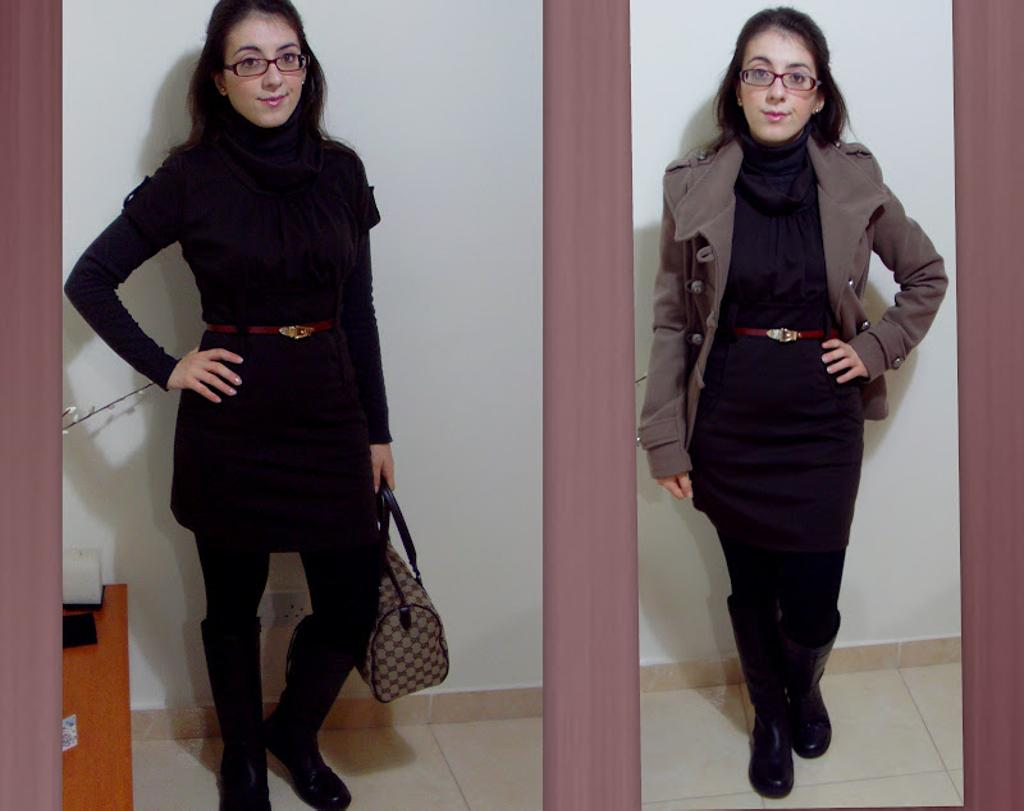face: (220, 14, 306, 128), (738, 30, 820, 140)
